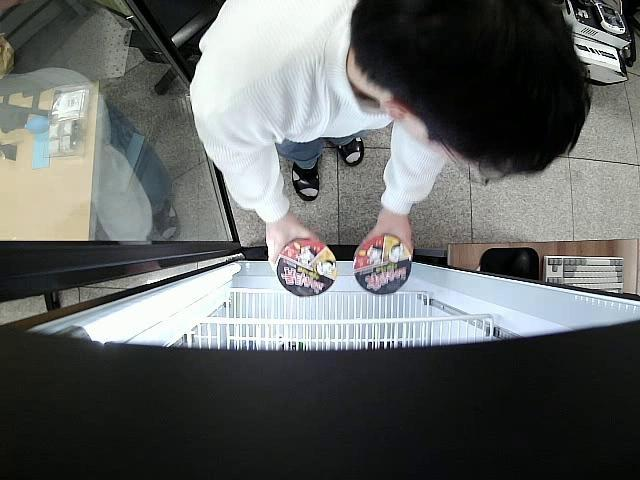07_buldak_L: (275, 238, 338, 297), (351, 236, 412, 296)
